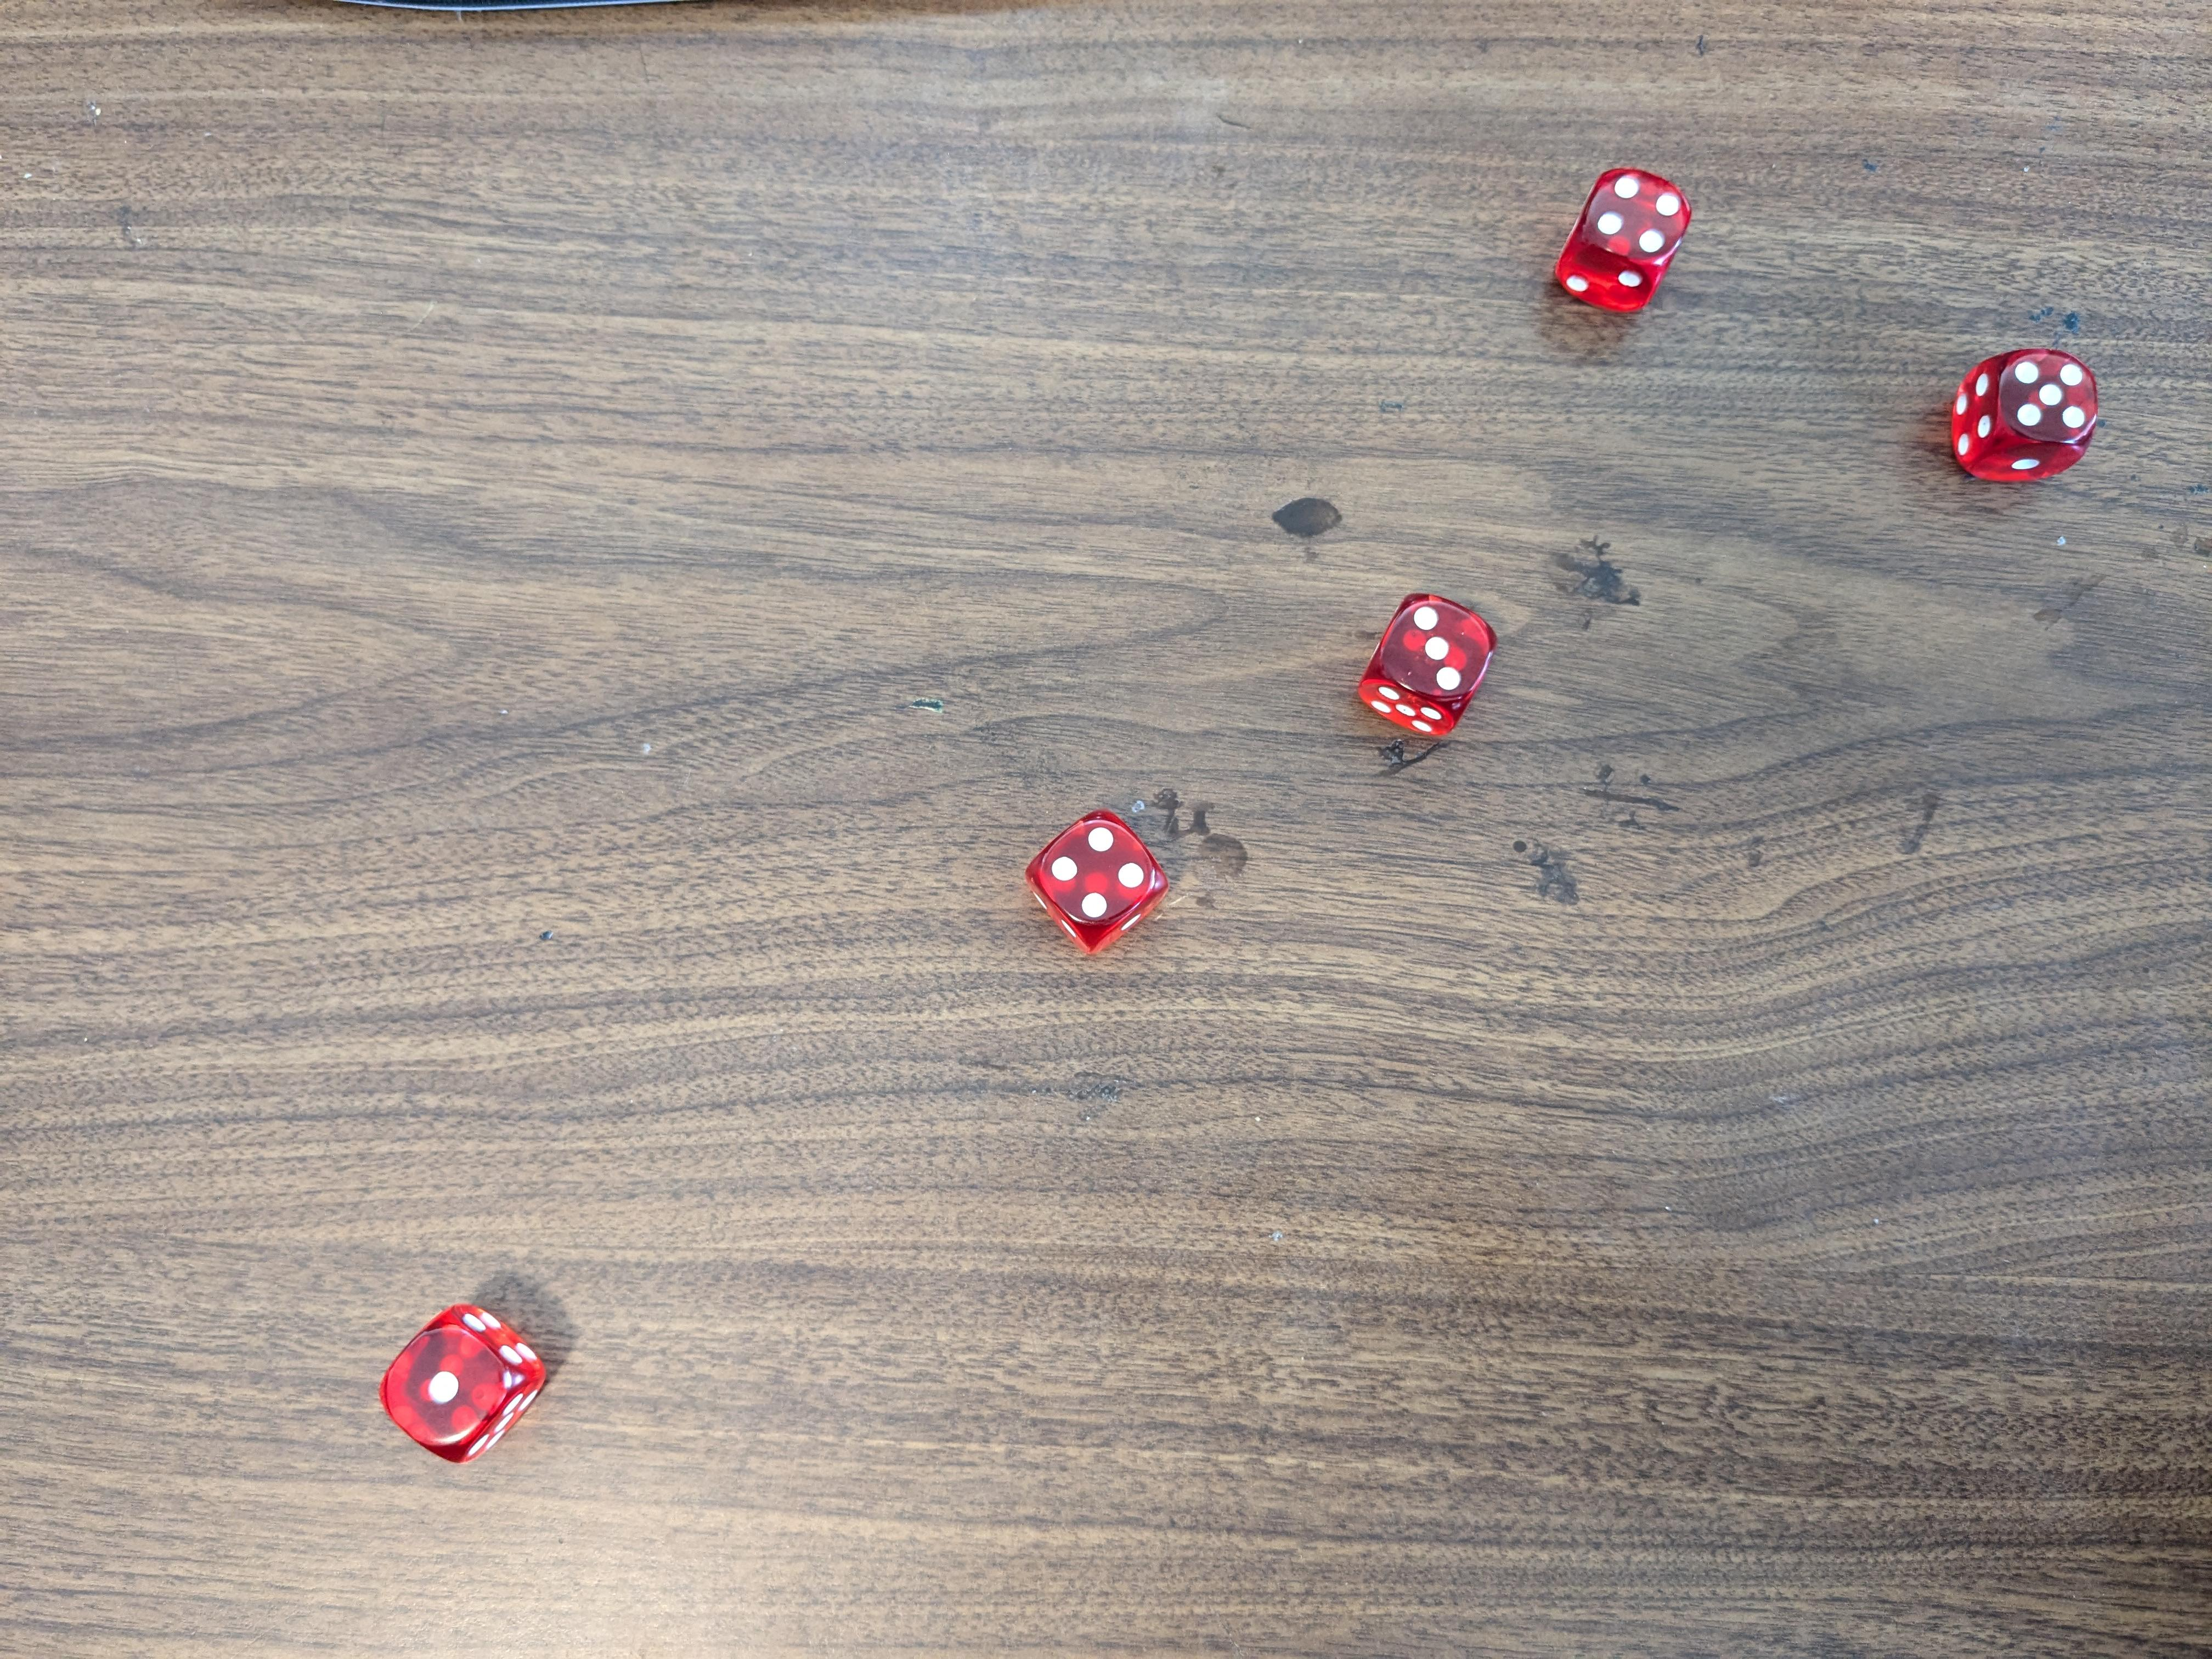five: (1951, 343, 2104, 488)
four: (1555, 157, 1691, 324), (1021, 805, 1174, 953)
one: (373, 1305, 547, 1467)
three: (1353, 589, 1503, 739)
